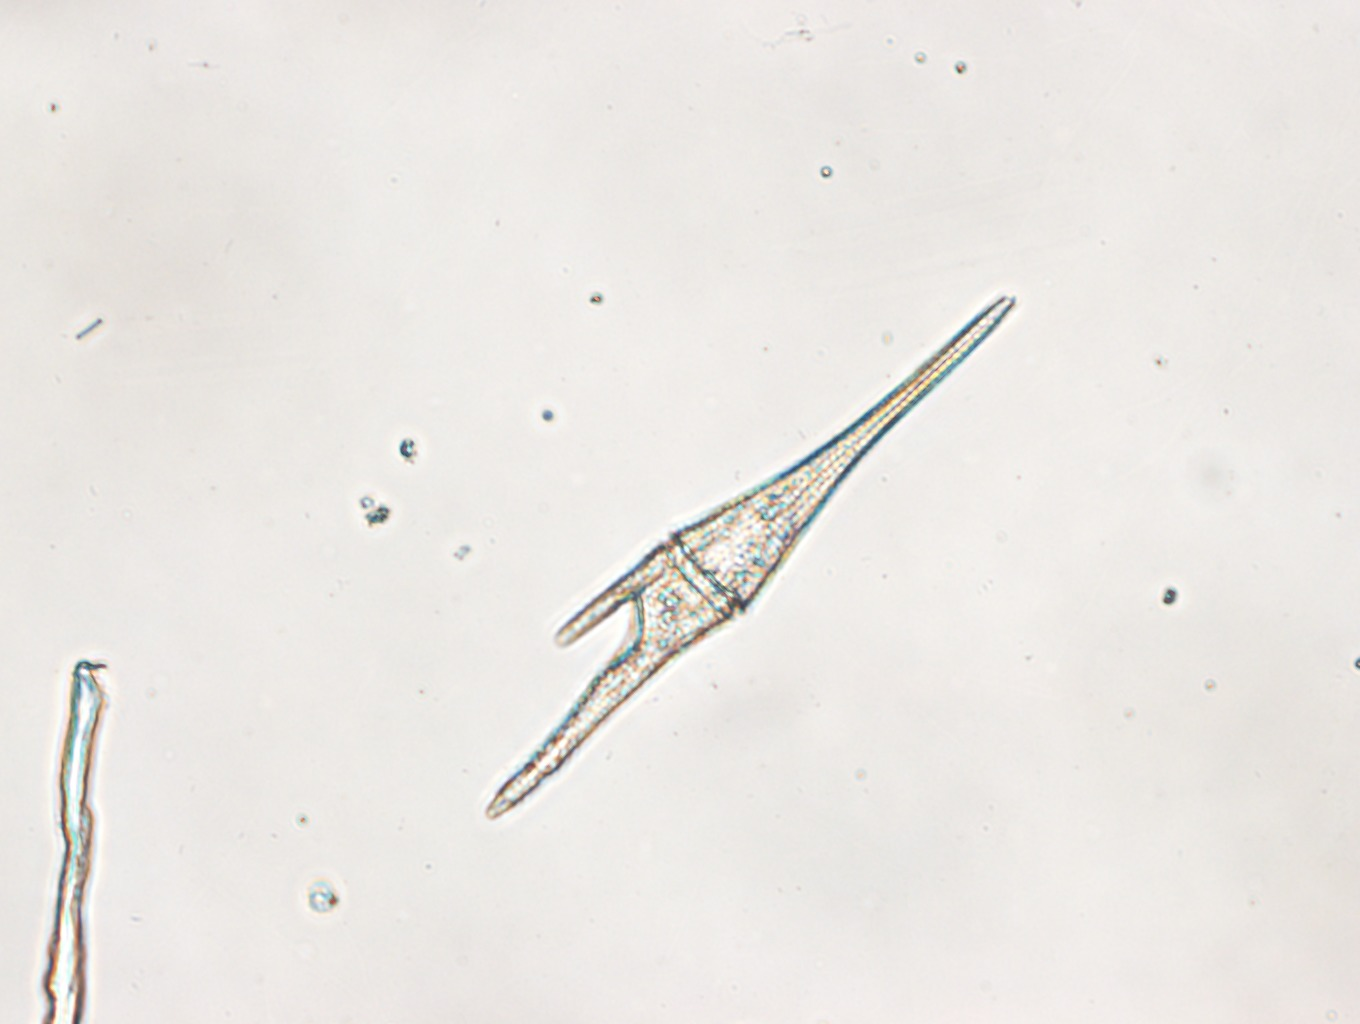ceratium furca: (485, 291, 1021, 824)
